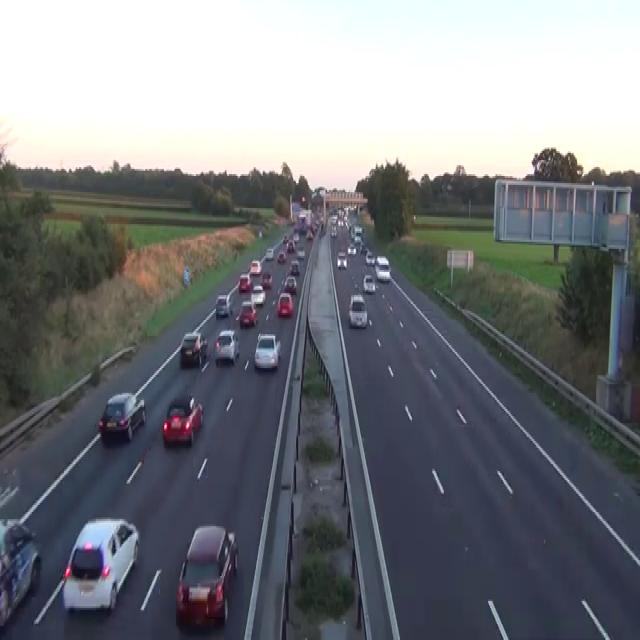Car: (62, 516, 139, 612), (175, 522, 238, 628), (0, 516, 42, 628), (98, 391, 146, 441), (162, 395, 203, 446), (253, 332, 281, 370), (180, 330, 208, 364), (214, 329, 240, 364), (0, 466, 20, 508), (348, 293, 367, 327), (238, 299, 257, 327), (277, 292, 293, 316), (250, 282, 266, 306), (375, 256, 390, 281), (215, 294, 232, 316), (238, 272, 252, 292), (283, 274, 297, 293), (363, 274, 375, 293), (336, 250, 347, 268), (261, 270, 272, 288), (250, 260, 262, 274), (290, 258, 299, 274), (365, 251, 374, 265), (277, 251, 286, 263), (347, 242, 356, 254), (265, 247, 273, 260), (296, 247, 305, 258), (286, 240, 294, 252), (354, 235, 362, 245), (292, 231, 299, 242), (306, 229, 313, 240), (354, 226, 362, 234), (331, 226, 337, 236), (282, 233, 287, 243), (360, 242, 365, 252), (258, 228, 262, 238)
